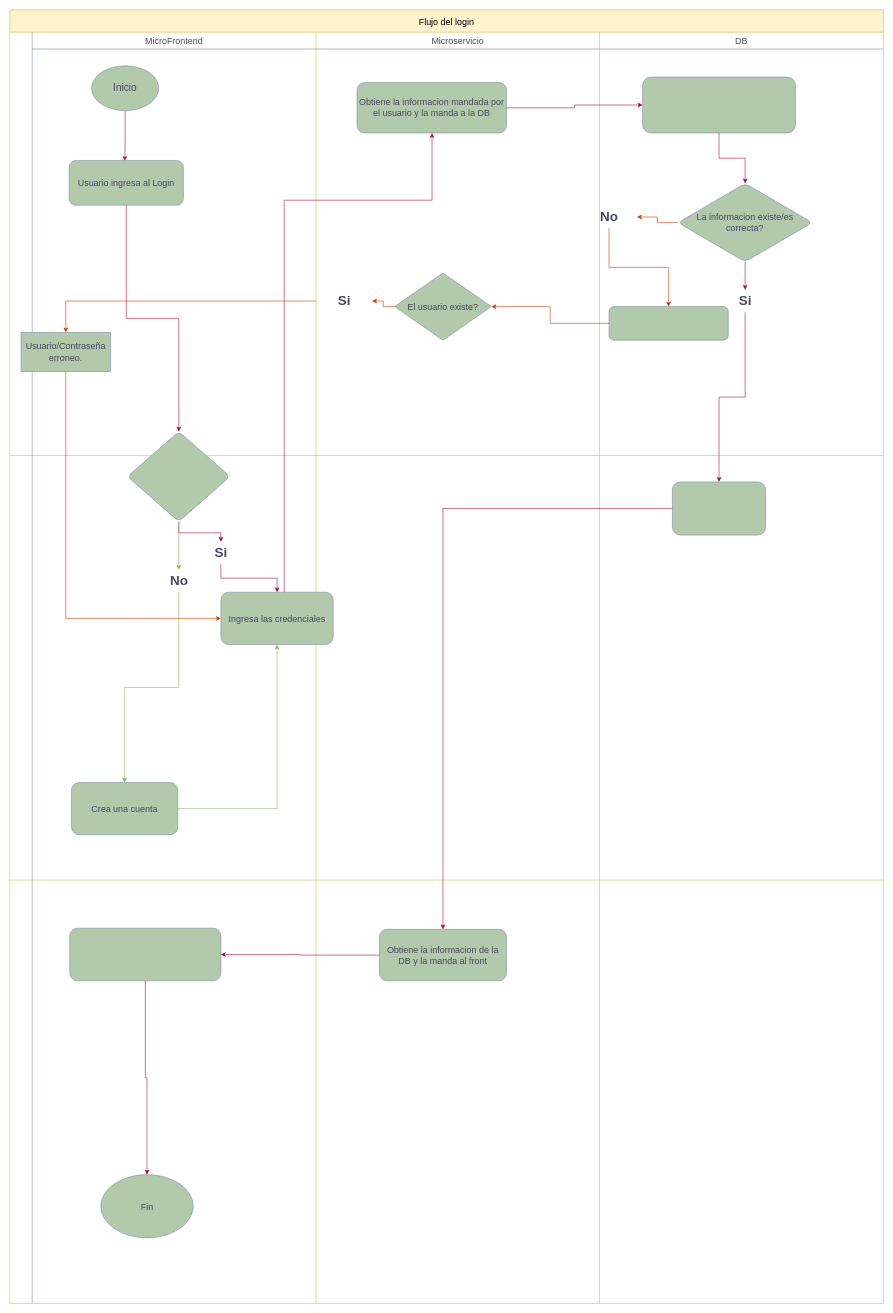
Some shapes in this 893 by 1313 pixel diagram are drawn without their labels. Each missing label, with the centre of its shape:
Al ser correcto, entra a la ventana principal: point (145, 954)
El usuario tiene cuenta?: point (178, 476)
Regresa info de usuario inexistente/erroneo: point (668, 323)
Regresa la informacion del usuario: point (719, 508)
Valida la informacion recibida del ms: point (718, 104)
